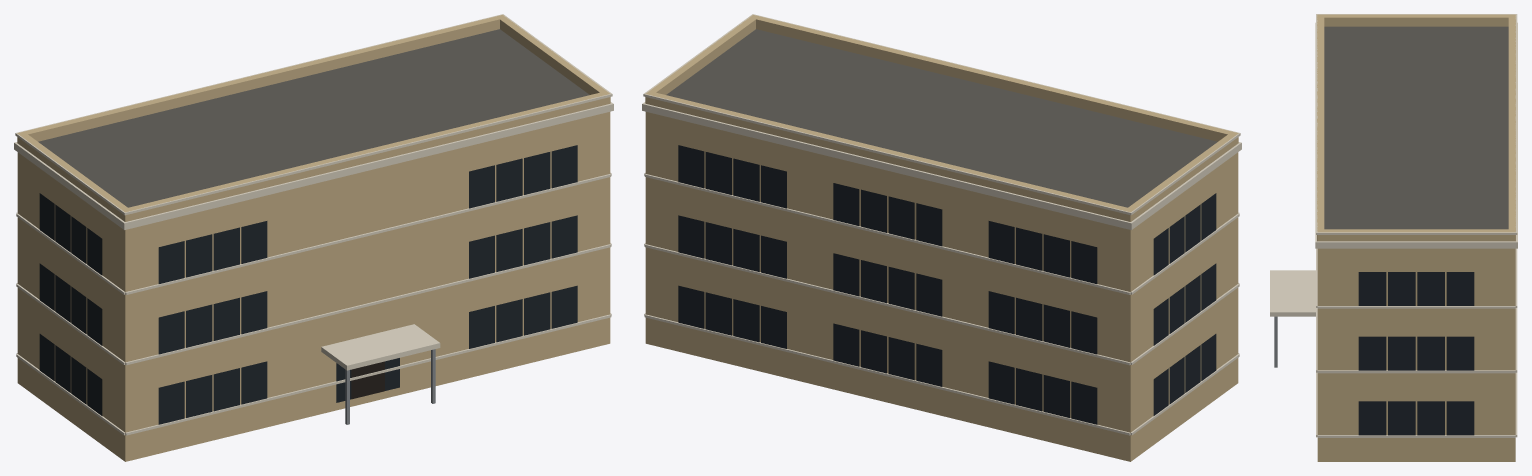
Rendered from asd-boys-dormitory-1961.glb.
The picture shows the model from 3 angles, left to right: view 1: azimuth 30°, elevation 25°; view 2: azimuth 150°, elevation 25°; view 3: azimuth 270°, elevation 25°; orthographic projection. The views are drawn at different scales.
Visible parts, largest first — view 1: kit-asd-boys-dormitory-1961; view 2: kit-asd-boys-dormitory-1961; view 3: kit-asd-boys-dormitory-1961.
Part boxes in pixels (x1=…): kit-asd-boys-dormitory-1961: x1=14, y1=14, x2=613, y2=461; kit-asd-boys-dormitory-1961: x1=642, y1=14, x2=1241, y2=461; kit-asd-boys-dormitory-1961: x1=1270, y1=14, x2=1517, y2=461.
Bounding box in the file's own units: 26.24 × 12.8 × 12.52.
